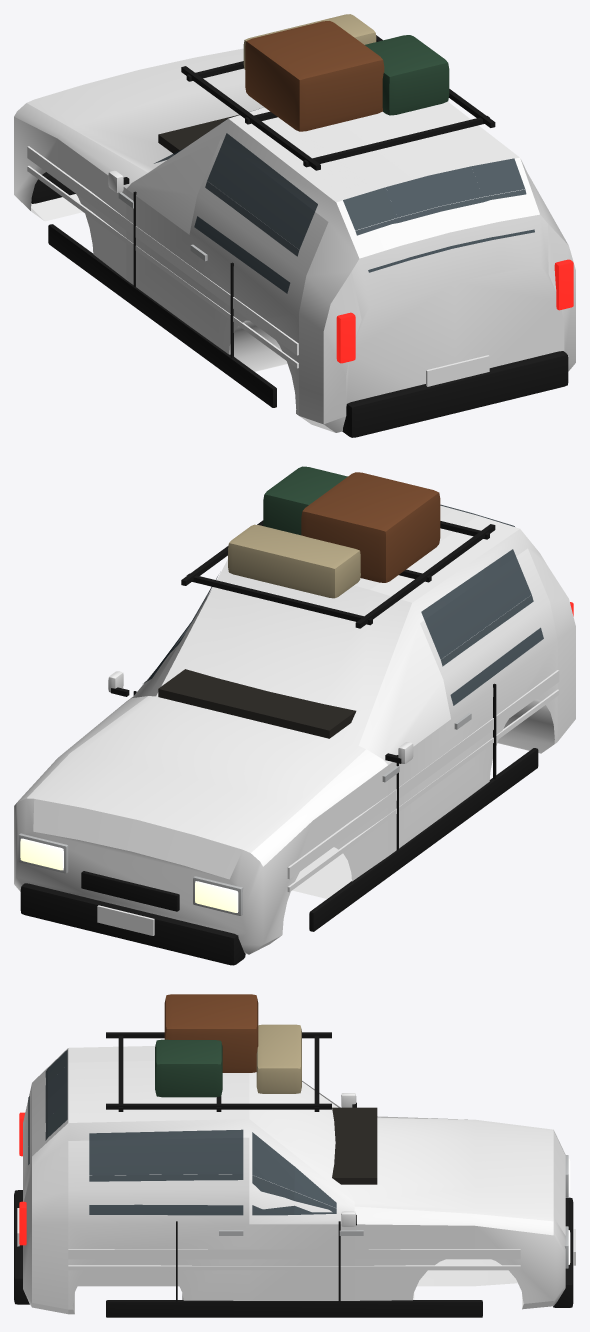
The model's file is dzo-hatch.glb.
3 views of the same model, one above another, from view 1: azimuth 30°, elevation 25°; view 2: azimuth 150°, elevation 25°; view 3: azimuth 270°, elevation 25° (orthographic). The views are drawn at different scales.
Visible parts, largest first — view 1: body; view 2: body; view 3: body.
Boxes of the visible parts, bbox=[...] form: body: bbox=[14, 14, 575, 437]; body: bbox=[14, 466, 575, 965]; body: bbox=[14, 994, 575, 1317].
Bounding box in the file's own units: 1.91 × 1.79 × 3.73.
